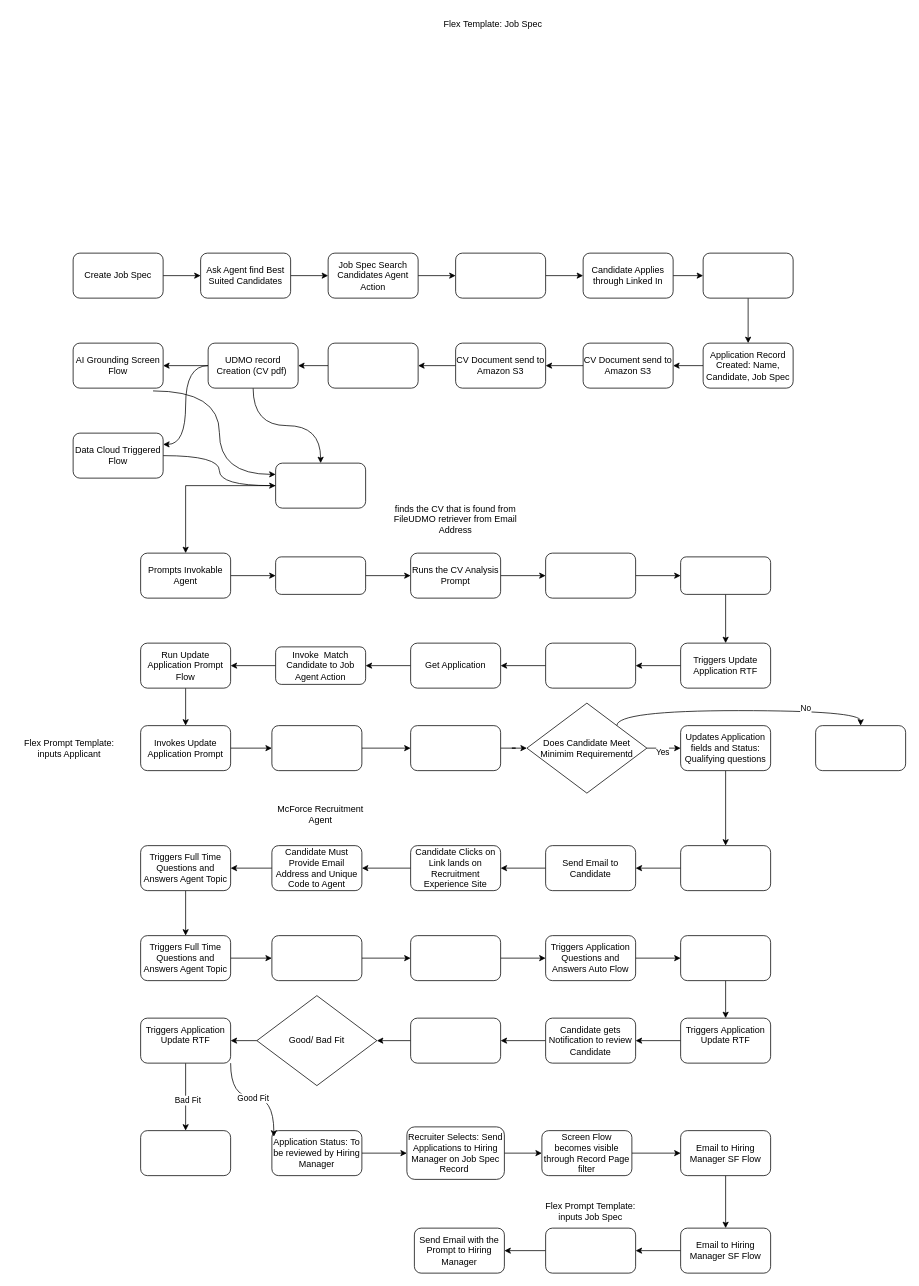
This 919x1286 diagram has some shape labels left out. Each missing label, with the box of its shape:
Agent Asks questions on Job Spec record and Candidate must answer: (271, 935, 362, 981)
Application Status: Unsuccessful: (140, 1130, 231, 1176)
Calls "Email To Hiring Manager" Prompt: (545, 1227, 636, 1273)
Candidate Object: (275, 462, 366, 508)
Candidate Record Created: Name, Email: (702, 252, 793, 298)
CV Document Data Cloud: (327, 342, 418, 388)
Invokes Update Application Agent Action: (271, 725, 362, 771)
Job Spec Search Candidates Prompt: (455, 252, 546, 298)
Pauses a Minute: (545, 642, 636, 688)
Recruiter reviews Application: (410, 1017, 501, 1063)
Runs Application Questions and Answers Auto Action: (410, 935, 501, 981)
Runs Candidate Record Update Agent Action: (545, 552, 636, 598)
Runs Update Application Flow: (410, 725, 501, 771)
Runs Update Candidate Flow: (680, 556, 771, 594)
Search CV Agent Action: (275, 556, 366, 594)
Triggers Application RTF Create and update Flow: (680, 845, 771, 891)
Update The Candidate and Application Record: (680, 935, 771, 981)
Updates Application fields and Status Unsuccessful: (815, 725, 906, 771)
